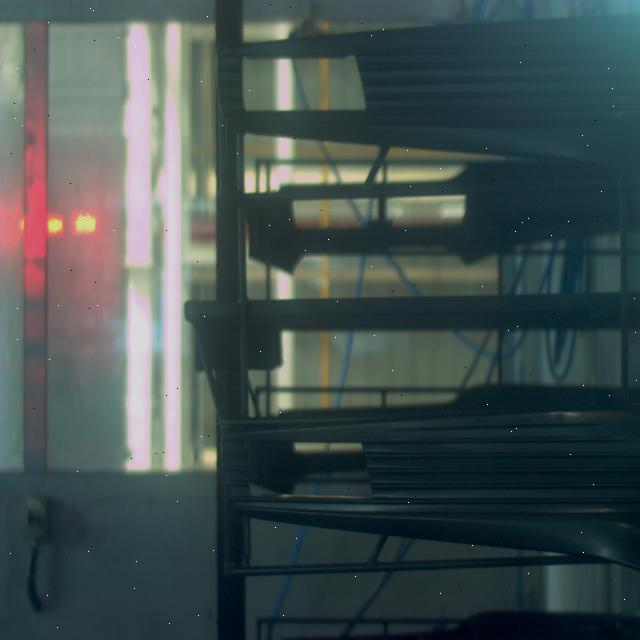Non_primered: (219, 408, 640, 566), (213, 16, 639, 156)
